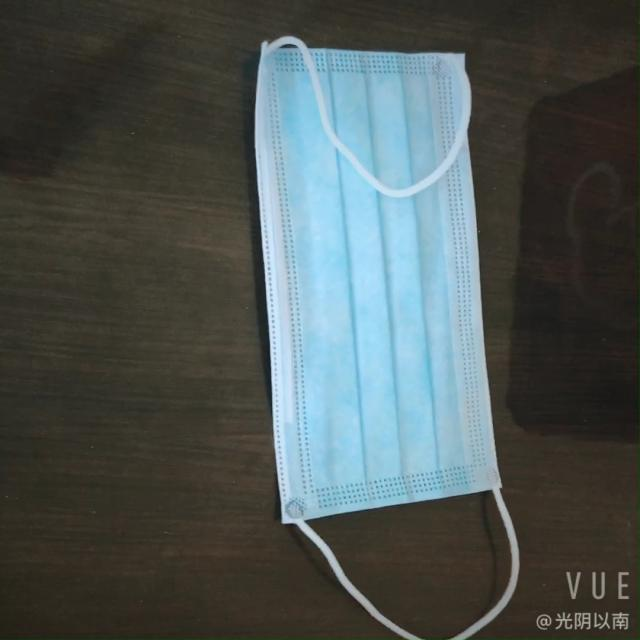non-organic waste: (242, 43, 492, 542)
